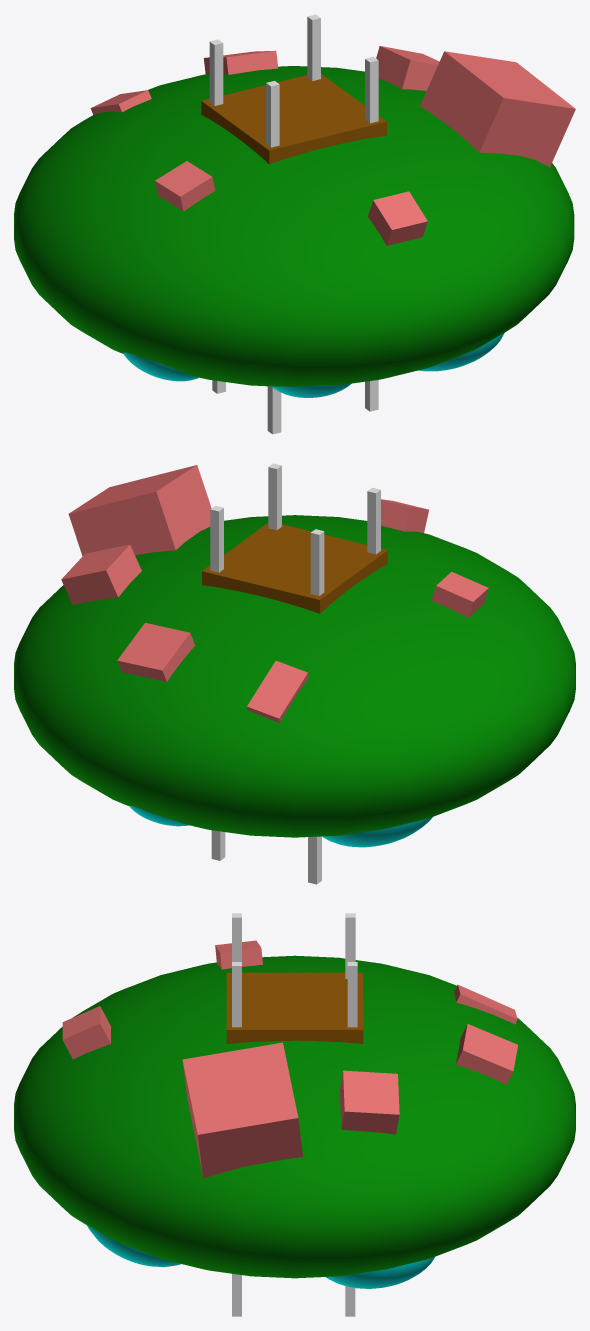
File: Home.fbx
3 views of the same model, one above another, from view 1: azimuth 30°, elevation 25°; view 2: azimuth 150°, elevation 25°; view 3: azimuth 270°, elevation 25° (orthographic).
Visible parts, largest first — view 1: pCube6; view 2: pCube6; view 3: pCube6.
Boxes of the visible parts, box(x1,y1,x2,y2) form: pCube6: box(14, 14, 575, 434); pCube6: box(14, 463, 575, 884); pCube6: box(14, 913, 575, 1316).
Bounding box in the file's own units: 36.6 × 25.04 × 36.4.
